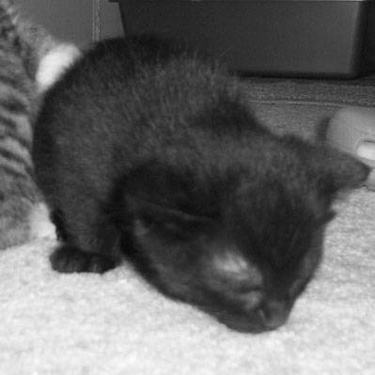cat: (26, 17, 359, 342)
